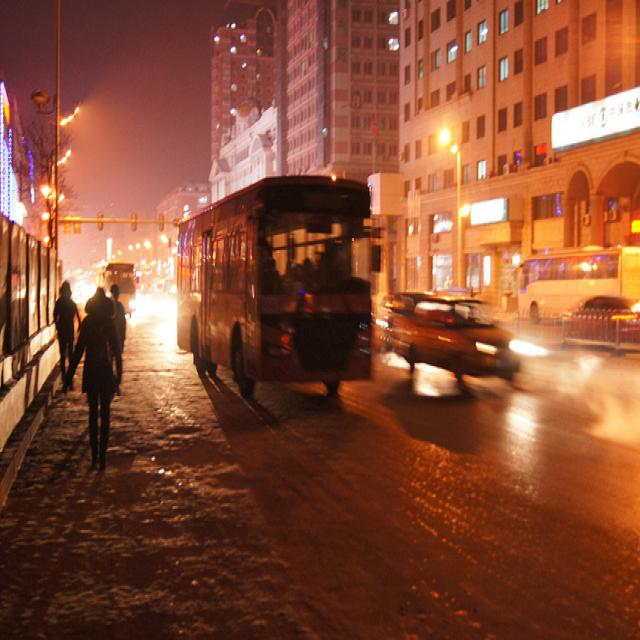Vehicle: (177, 176, 382, 405), (392, 295, 522, 381), (516, 246, 640, 325), (97, 262, 137, 316), (571, 298, 639, 324)
